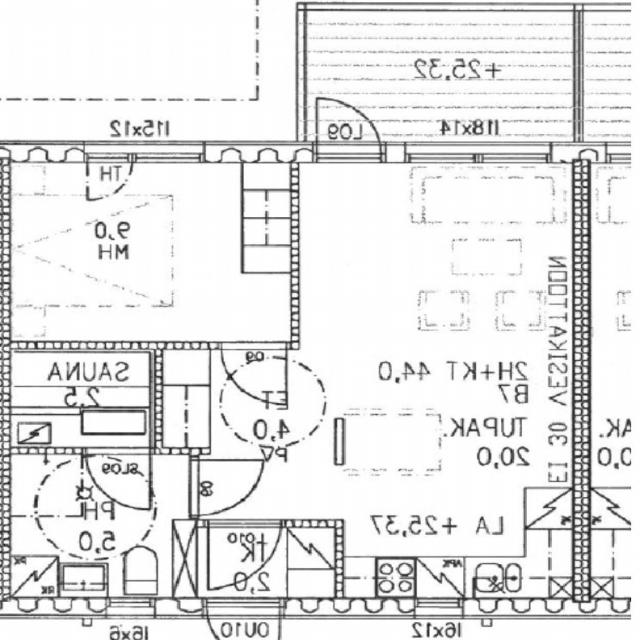door: (208, 519, 280, 589), (317, 87, 380, 163), (190, 460, 264, 515), (222, 342, 287, 404)
